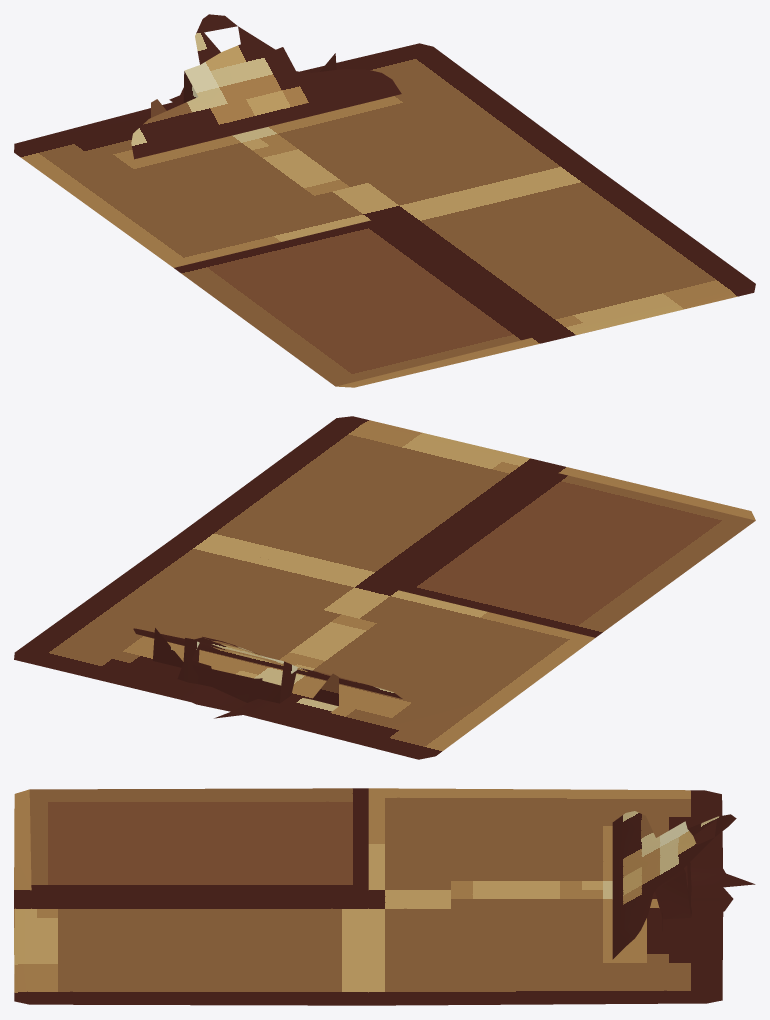
Rendered from clipboard.glb.
3 renders of one model, top to bottom at view 1: azimuth 30°, elevation 25°; view 2: azimuth 150°, elevation 25°; view 3: azimuth 270°, elevation 25°, orthographic. The views are drawn at different scales.
Visible parts, largest first — view 1: mesh; view 2: mesh; view 3: mesh.
Boxes of the visible parts, x1,y1,x2,y2 form: mesh: [14, 14, 755, 387]; mesh: [14, 416, 755, 759]; mesh: [14, 788, 755, 1005].
Size of the model in its own units: 0.2441 by 0.042 by 0.3545.
1 material, 1 textured.
